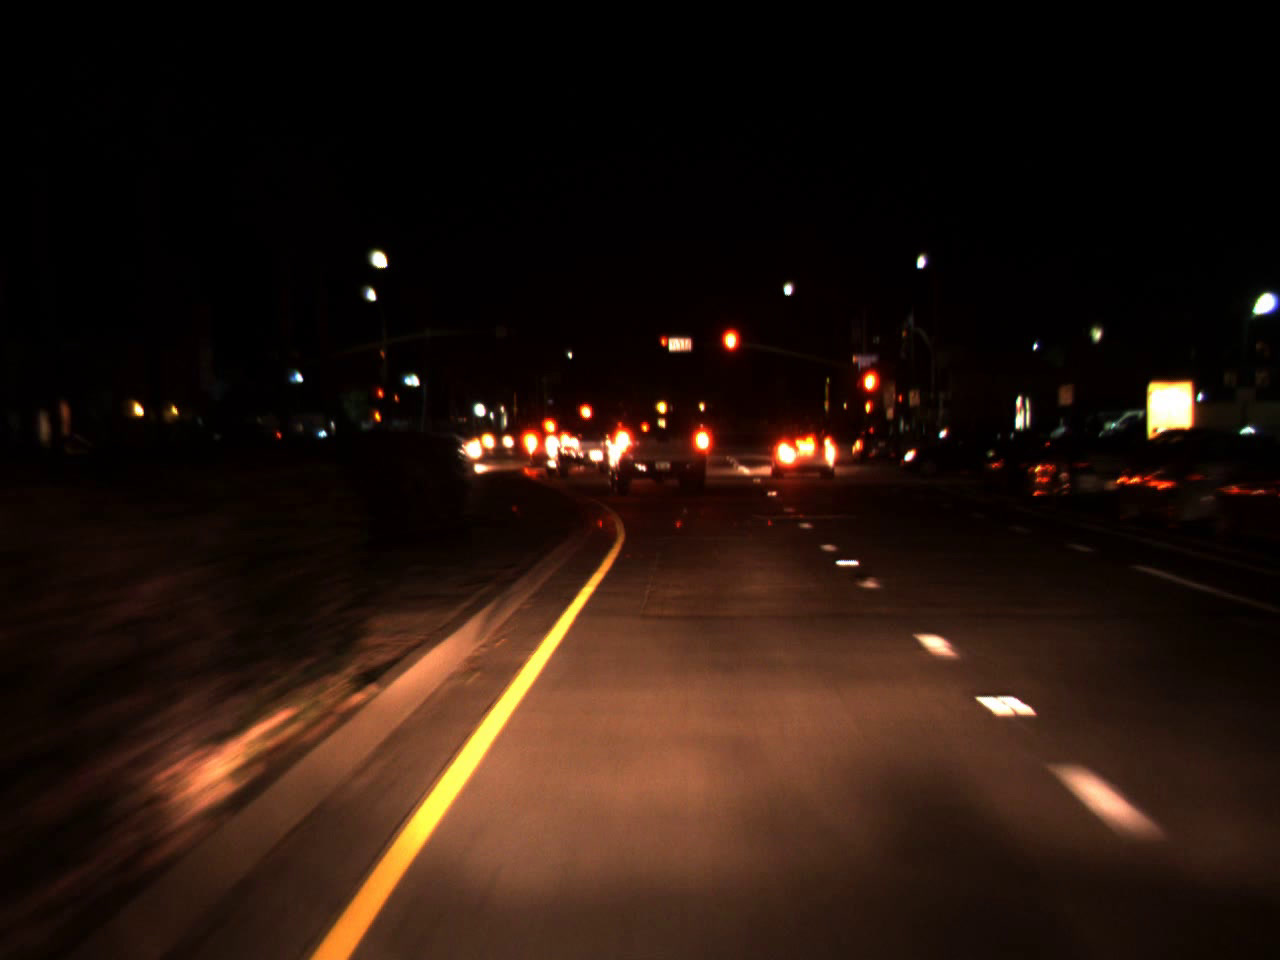stop: (717, 325, 742, 379), (859, 367, 883, 421), (660, 336, 667, 357), (376, 388, 383, 406)
